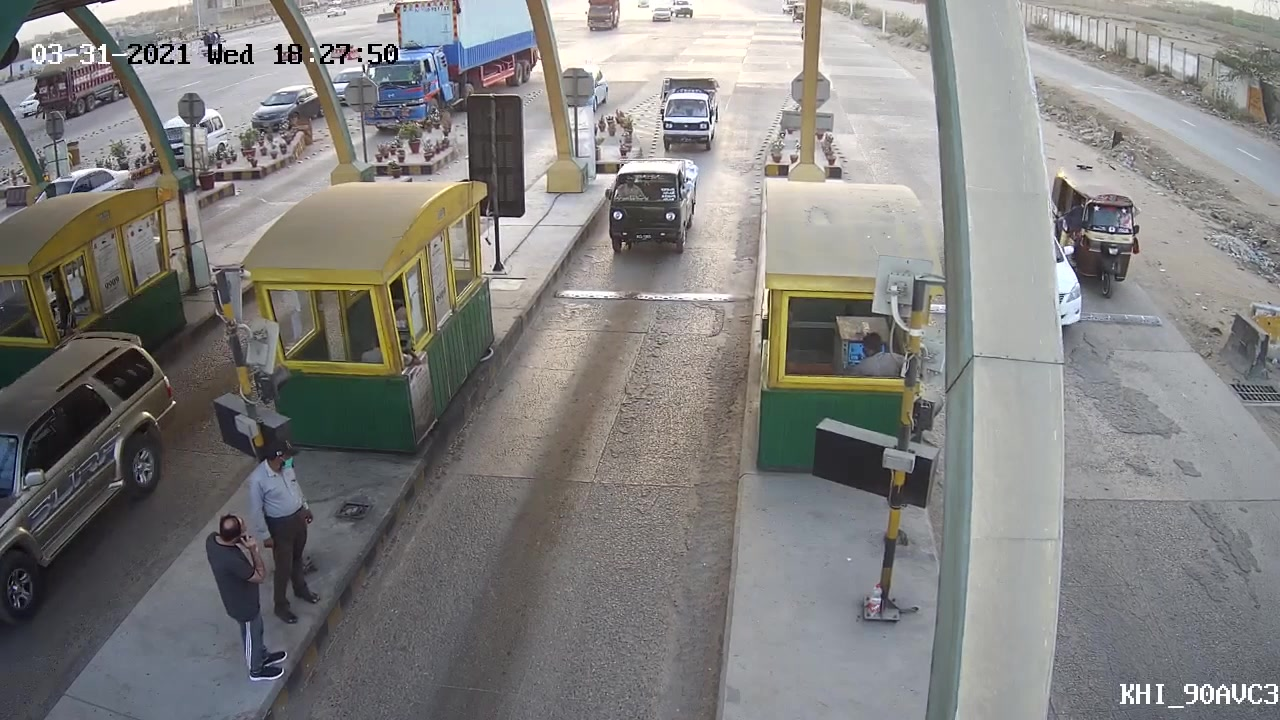F1: (592, 147, 708, 265)
